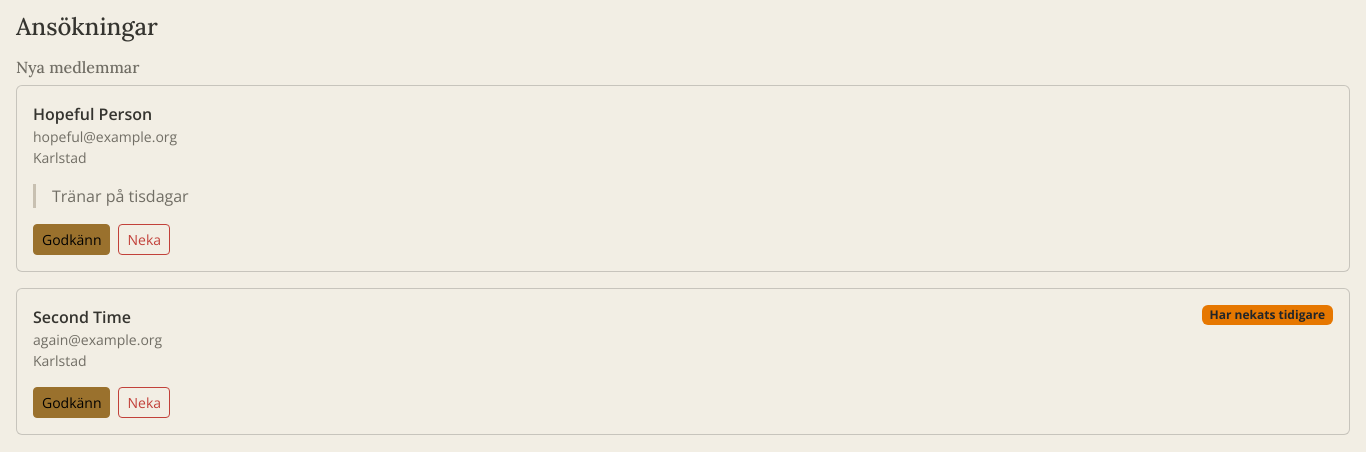
Test: AdminRequests › when the server says no › re-reads the queue when a request has already been decided
Expected: the text "Hopeful Person" is shown, [33,103,152,125]
Click the button "Godkänn" below "Tränar på tisdagar" at [72, 240], box [33,224,110,255]
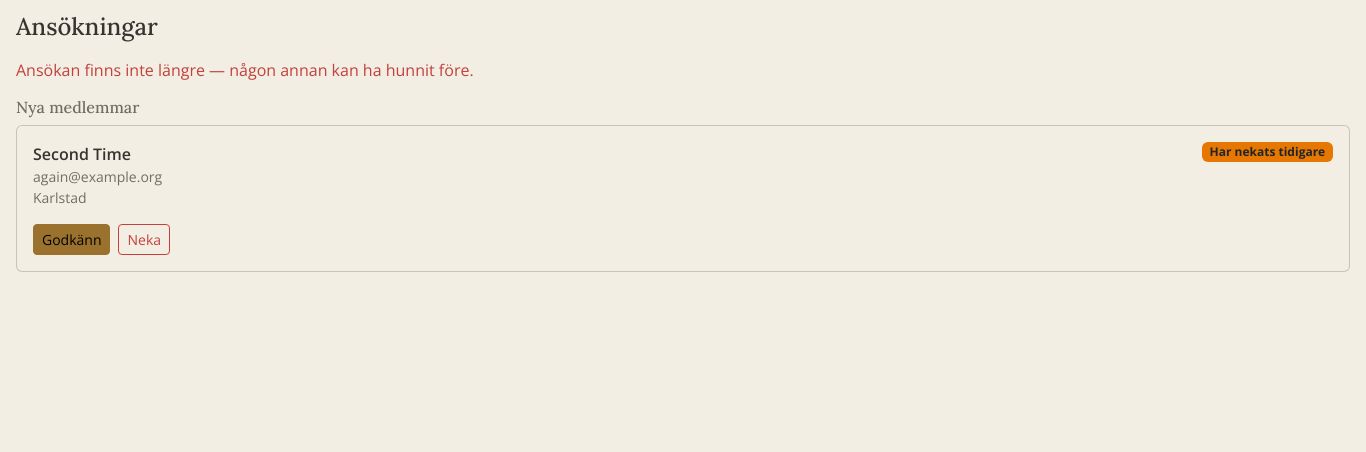
Expected: the text "Second Time" is shown, [33,143,131,165]
Expected: the text "Ansökan finns inte längre — någon annan kan ha hunnit före." is shown, [16,59,474,81]
Expected: the text "Hopeful Person" is gone
